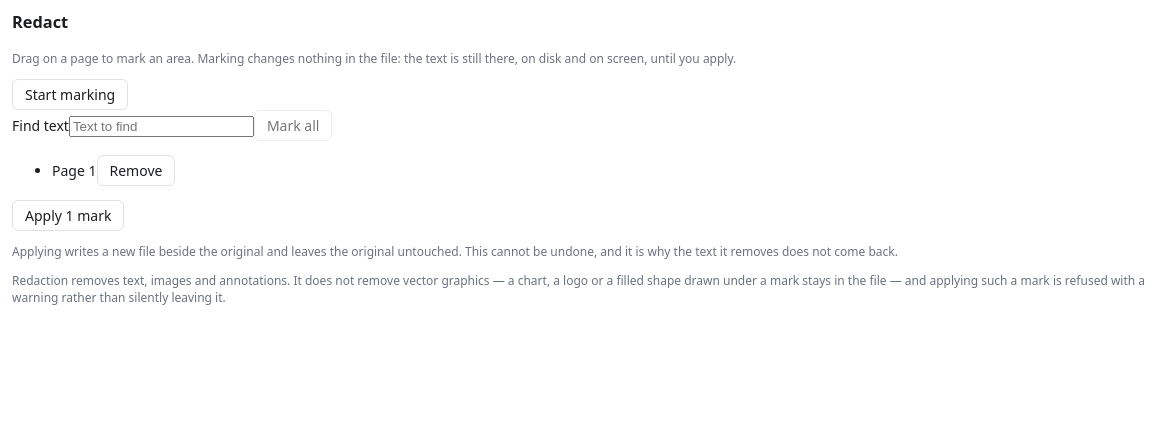
it: RedactPanel › reloads the marks and shows the path after applying
Click the button "Apply 1 mark".
click(68, 215)  # box [12, 200, 124, 231]
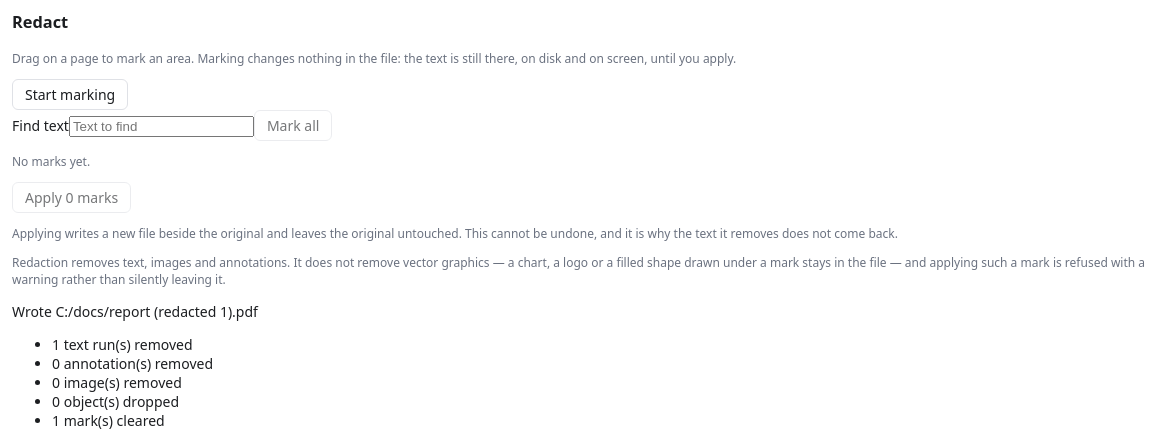
expect the text "No marks yet." is shown: met, box [12, 153, 90, 170]
